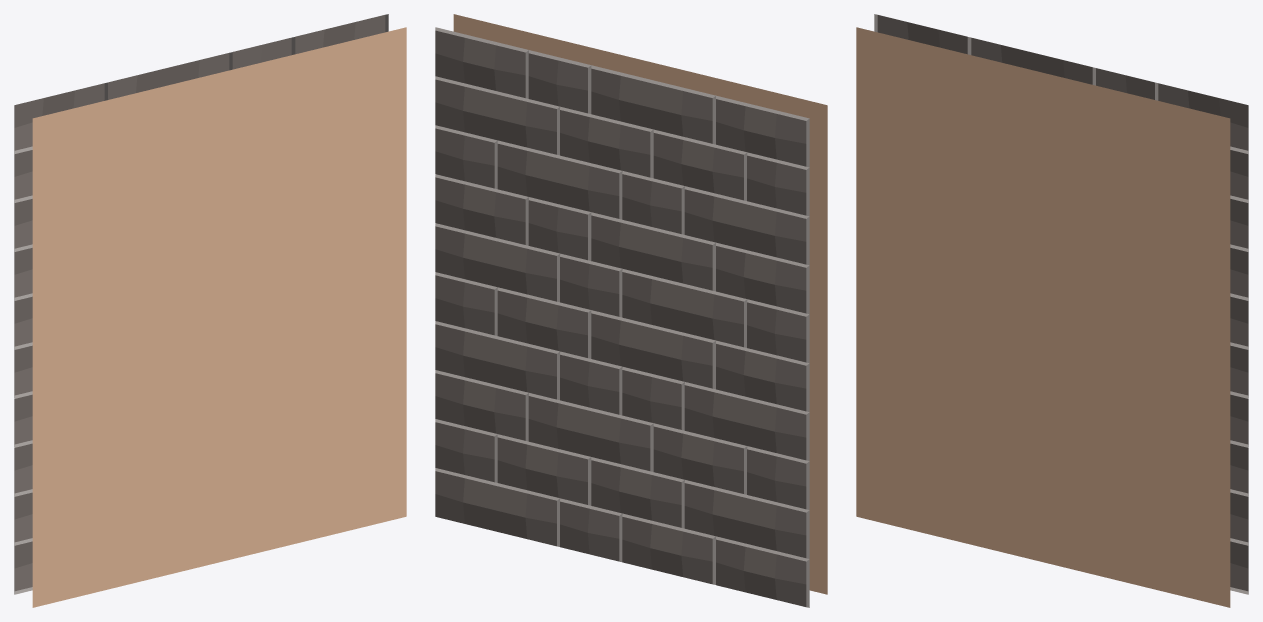
The model's file is Wall_6.fbx.
The picture shows the model from 3 angles, left to right: view 1: azimuth 30°, elevation 25°; view 2: azimuth 150°, elevation 25°; view 3: azimuth 330°, elevation 25°; orthographic projection.
Visible parts, largest first — view 1: Wall_6; view 2: Wall_6; view 3: Wall_6.
Part boxes in pixels (<box>): Wall_6: <box>14,14,406,607</box>; Wall_6: <box>435,14,827,607</box>; Wall_6: <box>856,14,1248,607</box>.
Bounding box in the file's own units: 2.4 × 0.24 × 3.
